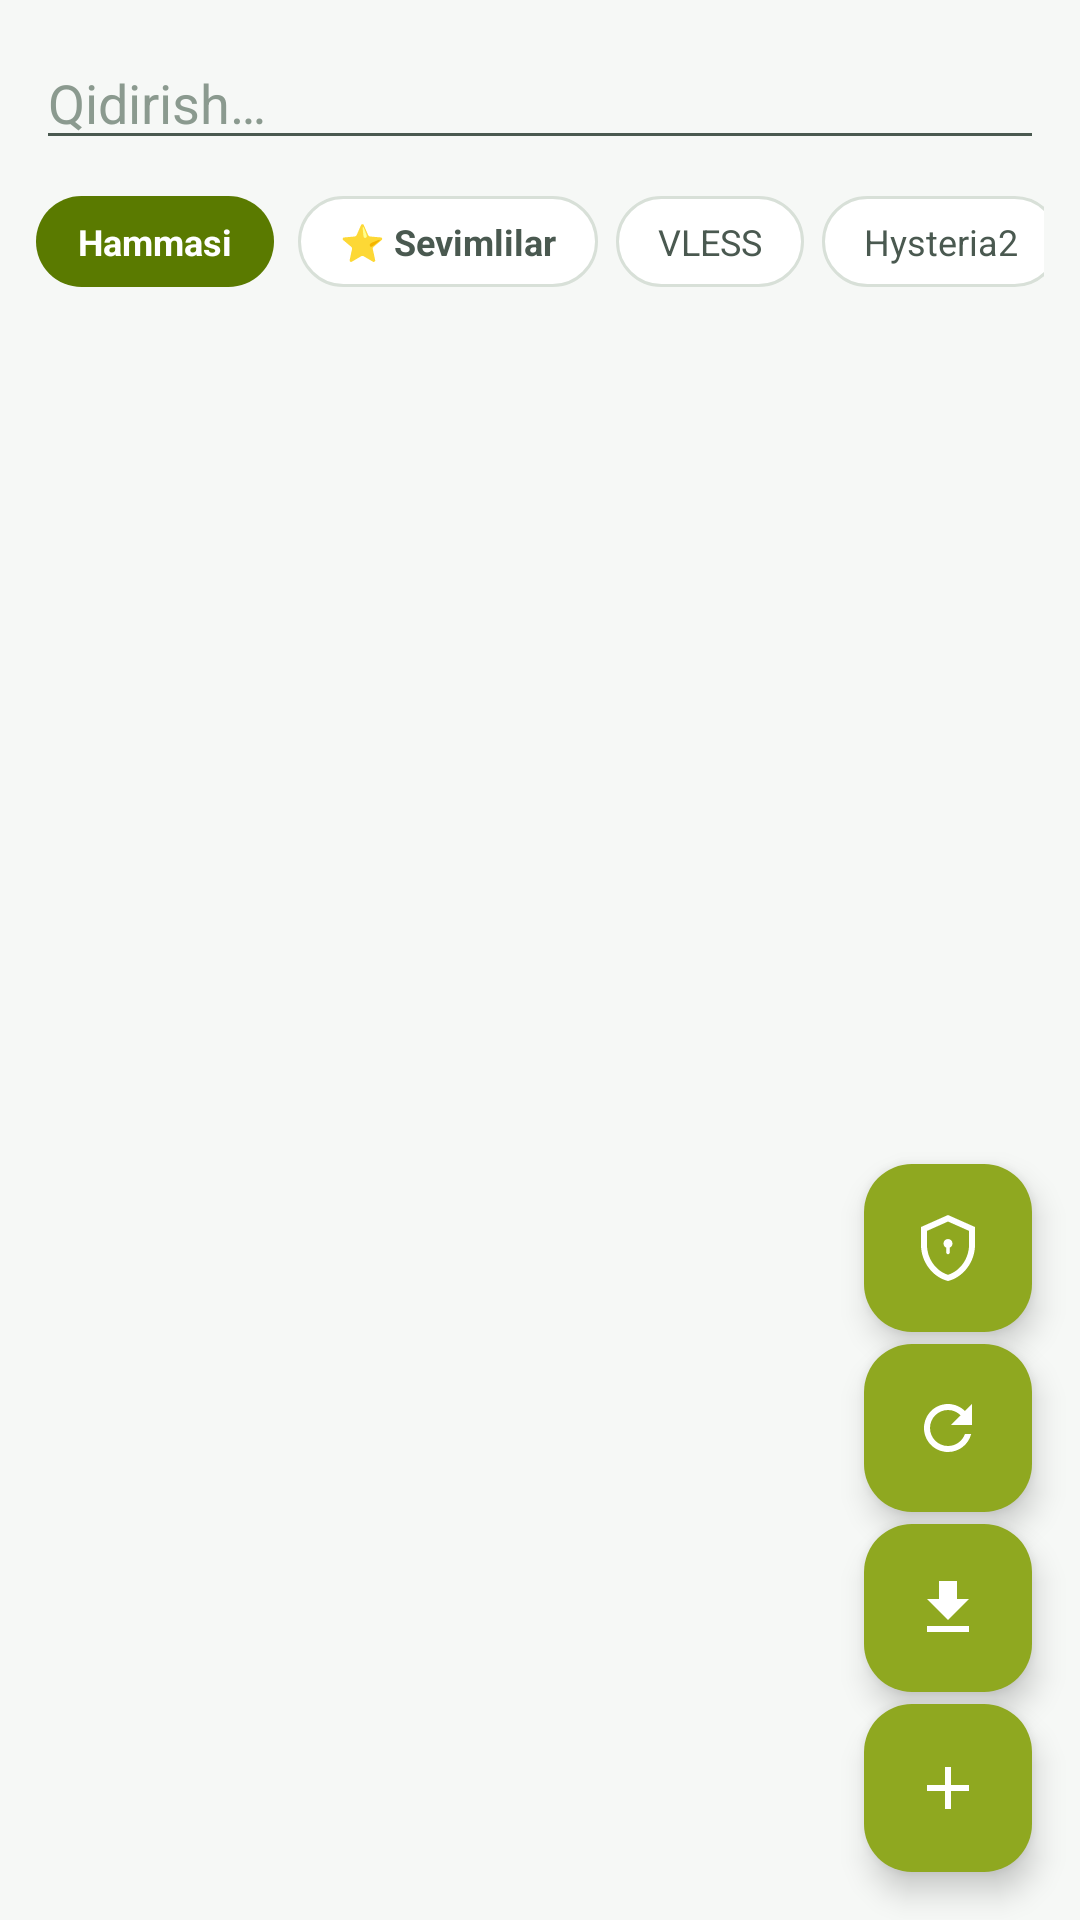

Icons on this 1080×1920 Android screen, each with its box as (x1, y1, x2, y2):
AWG qo'shish: (864, 1164, 1032, 1332)
Obuna yuklash: (864, 1524, 1032, 1692)
Ping: (864, 1344, 1032, 1512)
Server qo'shish: (864, 1704, 1032, 1872)
